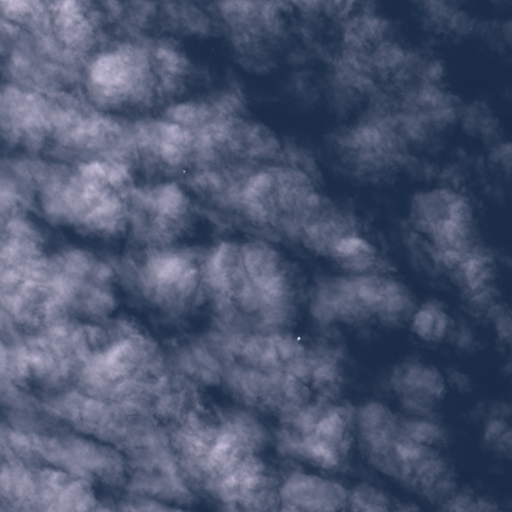Iceberg: (297, 336, 300, 340), (183, 170, 185, 172)
